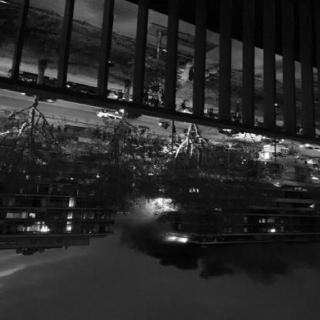Fire: (133, 190, 183, 228)
